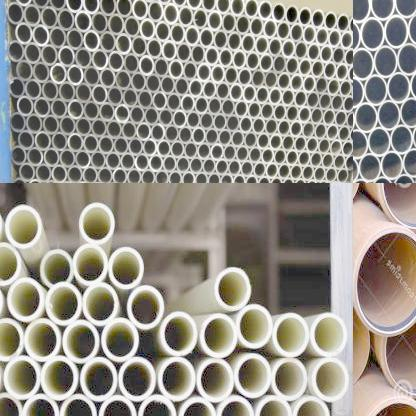pipe: (355, 229, 416, 336), (379, 294, 416, 398), (160, 311, 198, 356), (101, 318, 139, 362), (158, 357, 196, 401), (80, 358, 118, 402), (4, 205, 42, 248), (382, 183, 416, 231), (7, 278, 44, 322), (200, 314, 237, 358), (24, 318, 61, 362), (234, 354, 271, 398), (41, 356, 78, 400), (119, 357, 156, 401), (197, 358, 234, 402), (236, 304, 272, 349), (62, 320, 100, 362), (45, 282, 82, 325), (3, 356, 40, 399), (128, 286, 164, 330), (273, 313, 309, 357), (312, 358, 348, 402), (311, 314, 348, 356), (108, 247, 144, 290), (215, 267, 251, 310), (82, 282, 118, 325), (79, 202, 115, 244), (353, 301, 369, 393), (73, 244, 108, 286), (272, 358, 306, 400), (40, 249, 74, 288), (0, 318, 23, 361), (0, 242, 21, 285), (384, 14, 409, 48), (138, 394, 176, 416), (374, 44, 398, 78), (361, 17, 385, 51), (60, 394, 97, 416), (22, 394, 59, 416), (98, 395, 136, 416), (217, 395, 254, 416), (387, 72, 411, 104), (364, 74, 388, 106), (178, 396, 216, 416), (256, 395, 292, 416), (354, 102, 378, 133), (293, 396, 330, 416), (390, 124, 414, 154), (380, 150, 404, 180), (377, 100, 401, 130), (368, 127, 392, 156), (358, 152, 381, 182), (353, 47, 374, 79), (397, 42, 416, 75), (0, 393, 22, 416), (370, 0, 395, 20), (400, 97, 416, 128), (353, 128, 368, 159), (32, 60, 50, 84), (40, 5, 58, 29), (402, 147, 416, 177), (57, 8, 75, 31), (40, 43, 58, 66), (353, 0, 371, 23), (66, 64, 84, 86), (24, 78, 42, 100), (58, 80, 76, 102), (74, 10, 92, 32), (48, 26, 66, 48), (66, 28, 84, 50), (74, 46, 92, 68), (394, 0, 416, 18), (91, 11, 108, 34), (83, 29, 100, 52), (163, 2, 179, 26), (116, 32, 132, 56), (50, 63, 68, 84), (41, 80, 59, 101), (16, 95, 34, 116), (50, 98, 68, 119), (42, 114, 60, 135), (16, 59, 33, 81), (75, 82, 92, 104), (7, 2, 24, 24), (32, 24, 49, 46), (7, 40, 24, 62), (58, 45, 75, 67), (24, 3, 40, 26), (108, 13, 124, 36), (124, 15, 140, 38), (100, 30, 116, 53), (123, 51, 139, 74), (67, 99, 84, 120), (34, 130, 51, 151), (24, 42, 41, 63), (130, 70, 146, 92), (9, 76, 25, 98), (137, 88, 153, 110), (34, 96, 50, 118), (147, 0, 163, 22), (192, 8, 208, 30), (140, 18, 156, 40), (155, 20, 171, 42), (16, 22, 32, 44), (170, 22, 186, 44), (184, 24, 200, 46), (131, 35, 147, 57), (146, 37, 162, 59), (176, 41, 192, 63), (92, 48, 108, 70), (168, 58, 184, 80), (178, 5, 193, 28), (207, 9, 222, 32), (353, 76, 364, 107), (83, 66, 100, 86), (51, 132, 68, 152), (67, 132, 84, 152), (27, 146, 44, 166), (35, 163, 52, 183), (182, 60, 198, 81), (115, 69, 131, 90), (107, 85, 123, 106), (122, 87, 138, 108), (84, 100, 100, 121), (99, 101, 115, 122), (114, 103, 130, 124), (129, 104, 145, 125), (26, 113, 42, 134), (60, 115, 76, 136), (18, 129, 34, 150), (113, 135, 129, 156), (108, 51, 124, 72), (160, 74, 175, 96), (289, 22, 304, 44), (199, 26, 214, 48), (213, 28, 228, 50), (204, 44, 219, 66), (232, 48, 247, 70), (139, 54, 154, 76), (18, 162, 35, 181), (222, 11, 236, 34), (236, 13, 250, 36), (196, 62, 212, 82), (100, 68, 116, 88), (188, 78, 204, 98), (10, 112, 26, 132), (91, 118, 107, 138), (106, 119, 122, 139), (121, 120, 137, 140), (83, 134, 99, 154), (98, 134, 114, 154), (11, 146, 27, 166), (44, 147, 60, 167), (75, 149, 91, 169), (90, 150, 106, 170), (134, 152, 150, 172), (132, 0, 148, 20), (190, 44, 206, 64), (237, 66, 252, 87), (174, 76, 189, 97), (92, 84, 107, 105), (152, 90, 167, 111), (194, 94, 209, 115), (158, 107, 173, 128), (76, 116, 91, 137), (136, 121, 151, 142), (249, 16, 264, 37), (254, 35, 269, 56), (306, 41, 321, 62), (224, 64, 238, 86), (277, 70, 291, 92), (228, 30, 242, 52), (268, 36, 282, 58), (162, 40, 176, 62), (142, 138, 158, 157), (156, 139, 172, 158), (51, 164, 67, 183), (67, 164, 83, 183), (166, 92, 181, 112), (180, 94, 195, 114), (144, 106, 159, 126), (60, 148, 75, 168), (327, 28, 342, 48), (264, 69, 278, 90), (146, 73, 160, 94), (242, 83, 256, 104), (330, 92, 344, 113), (186, 109, 200, 130), (178, 124, 192, 145), (106, 150, 120, 171), (285, 4, 299, 25), (310, 8, 324, 29), (263, 18, 277, 39), (276, 20, 290, 41), (241, 32, 255, 53), (281, 38, 295, 59), (294, 40, 308, 61), (219, 47, 233, 68), (259, 52, 273, 73), (286, 55, 300, 76), (154, 57, 168, 78), (115, 0, 132, 17), (148, 154, 164, 172), (332, 44, 345, 66), (172, 109, 187, 128), (251, 116, 266, 135), (164, 124, 179, 143), (230, 129, 245, 148), (128, 137, 143, 156), (120, 152, 135, 171), (210, 64, 224, 84), (251, 68, 265, 88), (302, 74, 316, 94), (203, 80, 217, 100), (216, 80, 230, 100), (229, 82, 243, 102), (208, 96, 222, 116), (221, 97, 235, 117), (234, 99, 248, 119), (213, 112, 227, 132), (150, 122, 164, 142), (205, 126, 219, 146), (184, 140, 198, 160), (258, 0, 272, 20), (272, 2, 286, 22), (298, 6, 312, 26), (336, 12, 350, 32), (302, 24, 316, 44), (315, 26, 329, 46), (246, 51, 260, 71), (272, 54, 286, 74), (298, 57, 312, 77), (286, 103, 299, 124), (324, 10, 337, 31), (99, 0, 116, 16), (408, 11, 416, 45), (353, 19, 361, 53), (268, 86, 283, 104), (82, 165, 97, 183), (97, 165, 112, 183), (318, 92, 332, 111), (247, 100, 261, 119), (310, 107, 324, 126), (334, 109, 348, 128), (200, 111, 214, 130), (239, 115, 253, 134), (192, 126, 206, 145), (218, 128, 232, 147), (210, 142, 224, 161), (162, 154, 176, 173), (176, 155, 190, 174), (189, 156, 203, 175), (202, 157, 216, 176), (240, 159, 254, 178), (244, 0, 258, 19), (290, 72, 303, 92), (315, 75, 328, 95), (294, 88, 307, 108), (306, 90, 319, 110), (320, 43, 333, 63), (311, 58, 324, 78), (112, 166, 127, 183), (256, 86, 270, 104), (260, 102, 274, 120), (322, 108, 336, 126), (226, 114, 240, 132), (256, 132, 270, 150), (170, 140, 184, 158), (197, 142, 211, 160), (339, 79, 352, 98), (298, 105, 311, 124), (265, 117, 278, 136), (302, 121, 315, 140), (326, 122, 339, 141), (223, 143, 236, 162), (324, 60, 336, 80), (336, 62, 348, 82), (282, 88, 294, 108), (274, 102, 286, 122), (126, 167, 141, 183), (82, 0, 99, 14), (327, 78, 340, 96), (314, 122, 327, 140), (244, 130, 257, 148), (249, 146, 262, 164), (261, 146, 274, 164), (228, 158, 241, 176), (278, 118, 290, 137), (290, 119, 302, 138), (282, 133, 294, 152), (294, 134, 306, 153), (341, 31, 353, 50), (140, 168, 155, 183), (230, 0, 244, 16), (236, 145, 249, 162), (324, 166, 337, 183), (393, 173, 415, 183), (270, 133, 282, 151), (306, 136, 318, 154), (318, 137, 330, 155), (341, 139, 353, 157), (274, 148, 286, 166), (286, 148, 298, 166), (322, 152, 334, 170), (334, 153, 346, 171), (216, 158, 228, 176), (254, 160, 266, 178), (266, 162, 278, 180), (278, 162, 290, 180), (290, 163, 302, 181), (302, 164, 314, 182), (155, 168, 169, 183), (215, 0, 230, 14), (338, 125, 350, 142), (330, 139, 342, 156), (298, 150, 310, 167), (310, 151, 322, 168), (314, 165, 326, 182), (337, 166, 349, 183), (66, 0, 83, 12), (342, 94, 353, 112), (168, 169, 182, 183), (410, 69, 416, 100), (371, 175, 394, 183), (181, 170, 195, 183), (194, 170, 208, 183), (48, 0, 66, 10), (344, 47, 353, 67), (353, 154, 359, 183), (201, 0, 216, 11), (207, 171, 220, 183), (186, 0, 201, 10), (31, 0, 49, 8), (220, 172, 233, 183), (232, 173, 245, 183), (345, 154, 353, 170), (346, 110, 353, 128), (245, 174, 258, 183), (347, 64, 353, 82), (258, 174, 270, 183), (14, 0, 32, 6), (348, 14, 353, 34), (12, 177, 27, 183), (171, 0, 186, 6), (282, 176, 294, 183), (270, 176, 282, 183), (27, 178, 43, 183), (156, 0, 171, 5), (294, 177, 306, 183), (349, 126, 353, 143), (43, 179, 59, 183), (305, 178, 317, 183), (316, 179, 328, 183)
